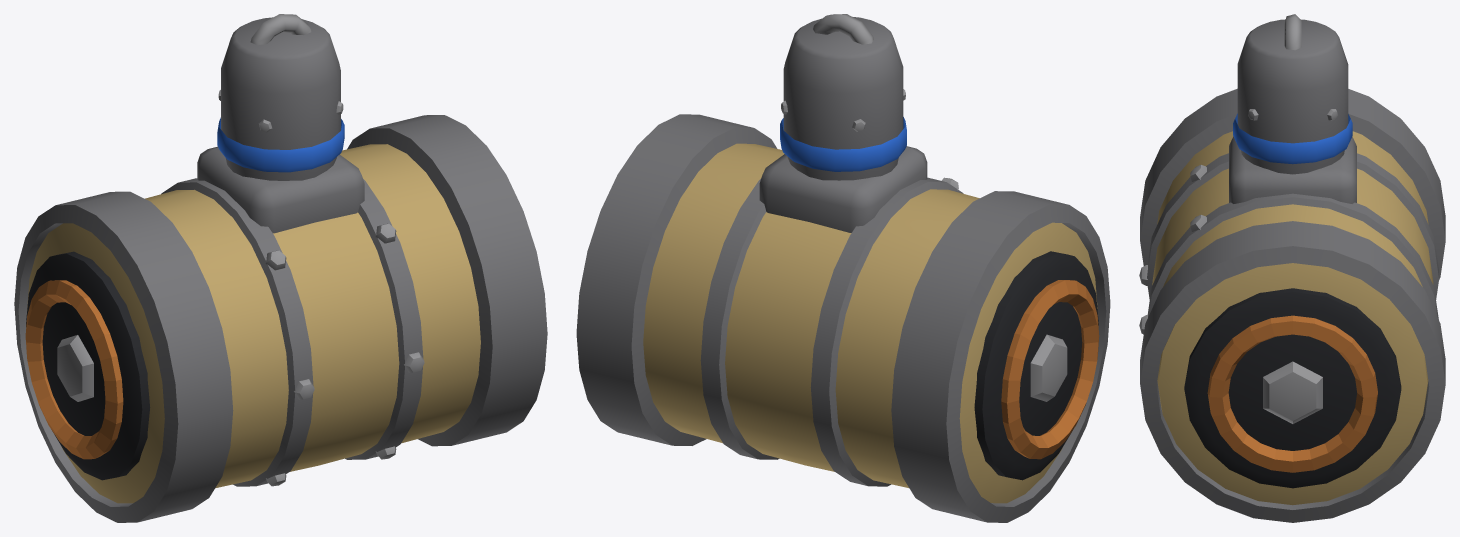
The model's file is Kit_Hammer_ProDrum.glb.
The picture shows the model from 3 angles, left to right: view 1: azimuth 30°, elevation 25°; view 2: azimuth 150°, elevation 25°; view 3: azimuth 270°, elevation 25°; orthographic projection. The views are drawn at different scales.
Visible parts, largest first — view 1: Kit_Hammer_ProDrum; view 2: Kit_Hammer_ProDrum; view 3: Kit_Hammer_ProDrum.
Boxes of the visible parts, x1,y1,x2,y2 form: Kit_Hammer_ProDrum: (14,14,547,522); Kit_Hammer_ProDrum: (576,14,1110,522); Kit_Hammer_ProDrum: (1139,14,1445,522).
Size of the model in its own units: 0.282 by 0.2833 by 0.1865.
